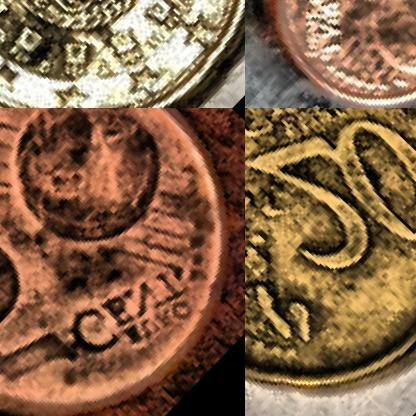coin: (0, 108, 244, 415), (245, 108, 415, 415), (0, 0, 244, 107), (245, 0, 415, 107)
